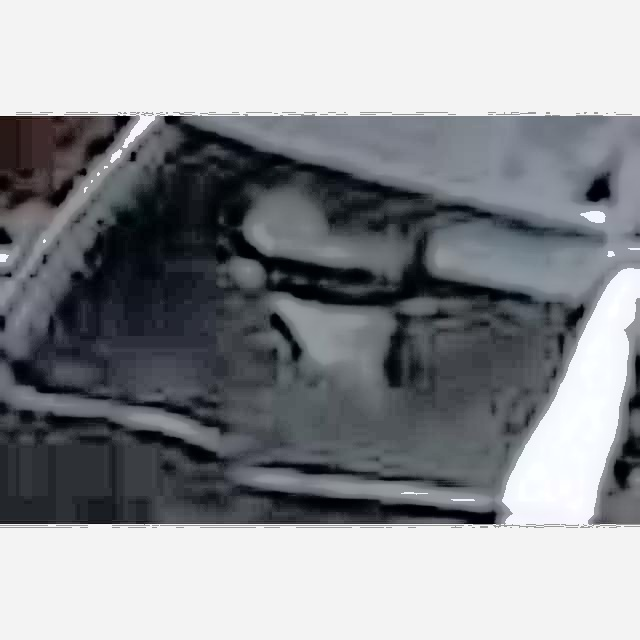tidak-pakai: (211, 177, 422, 395)
